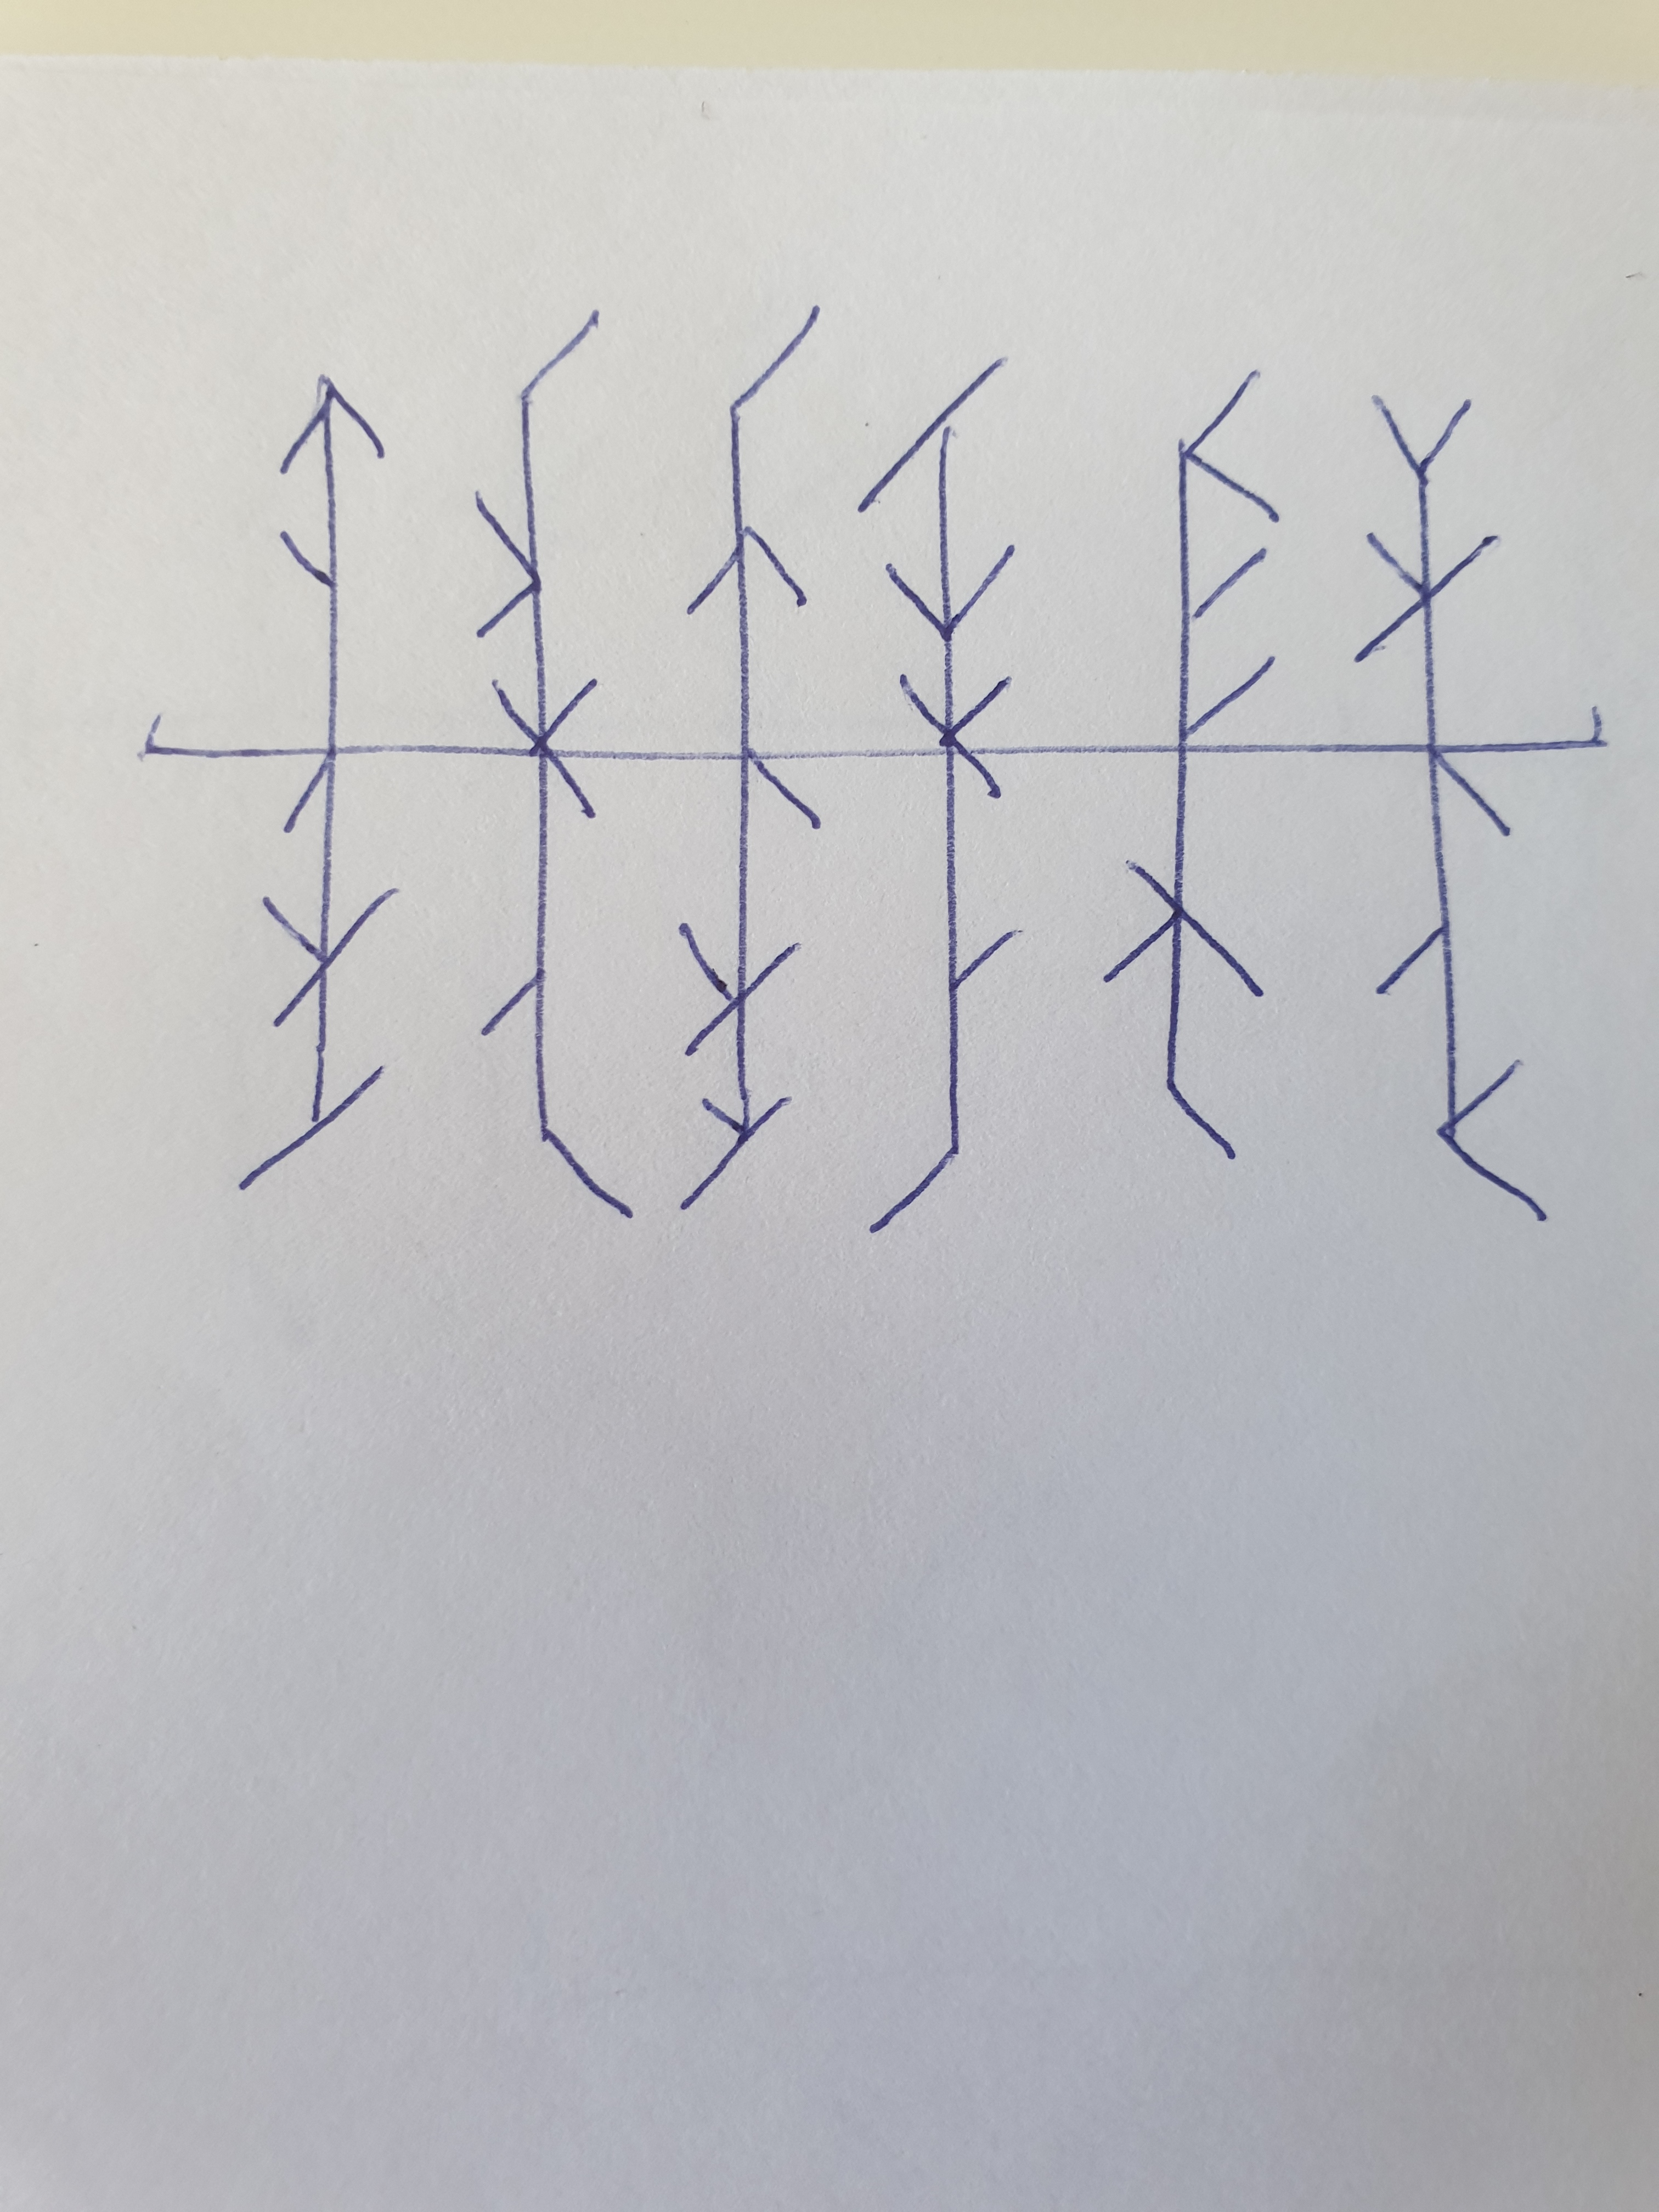Bar: (1354, 395, 1549, 1223), (474, 312, 631, 1217), (1101, 371, 1279, 1160), (856, 354, 1014, 1233), (678, 308, 823, 1207), (239, 376, 385, 1190)
Barcode: (141, 305, 1614, 1235)
End: (1432, 707, 1608, 751)
Start: (139, 719, 322, 759)
